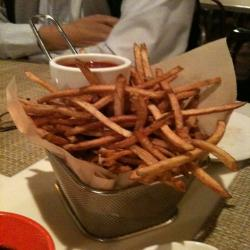fries: (48, 82, 220, 189)
ketchup: (45, 45, 132, 76)
